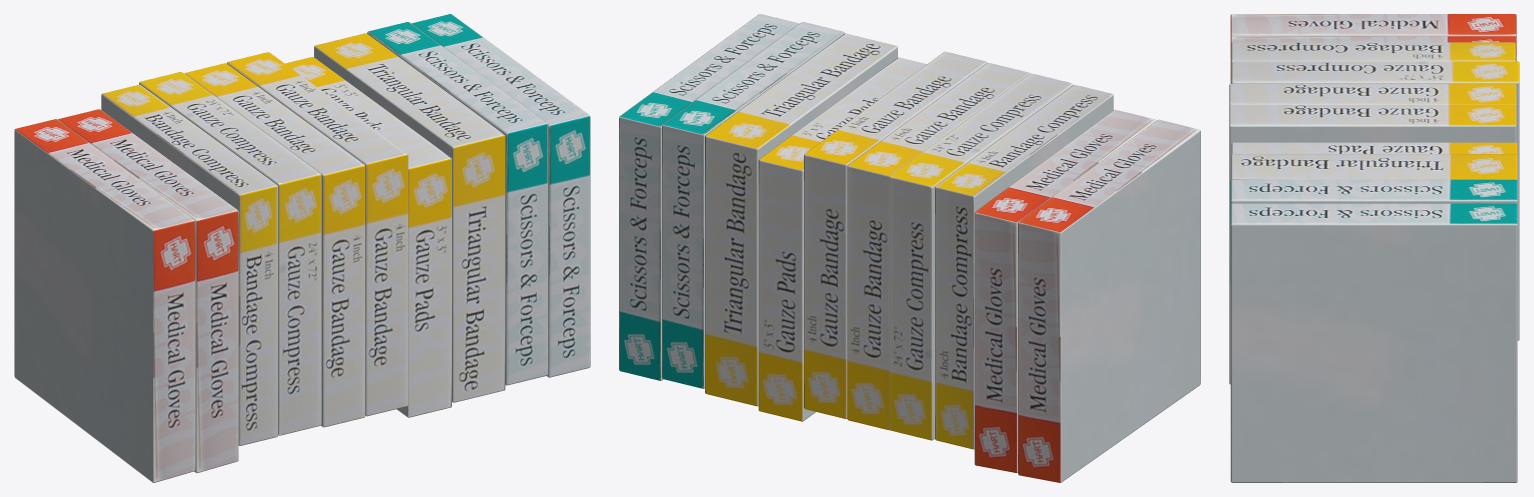
File: MedicineProduct02.fbx
3 renders of one model, left to right at view 1: azimuth 30°, elevation 25°; view 2: azimuth 150°, elevation 25°; view 3: azimuth 270°, elevation 25°, orthographic. The views are drawn at different scales.
Parts seen in each view (by area): view 1: MedicineProduct02; view 2: MedicineProduct02; view 3: MedicineProduct02.
Part boxes in pixels (<box>): MedicineProduct02: <box>14,14,590,482</box>; MedicineProduct02: <box>619,14,1200,482</box>; MedicineProduct02: <box>1229,14,1519,482</box>.
Size of the model in its own units: 11.36 by 6.68 by 6.36.
